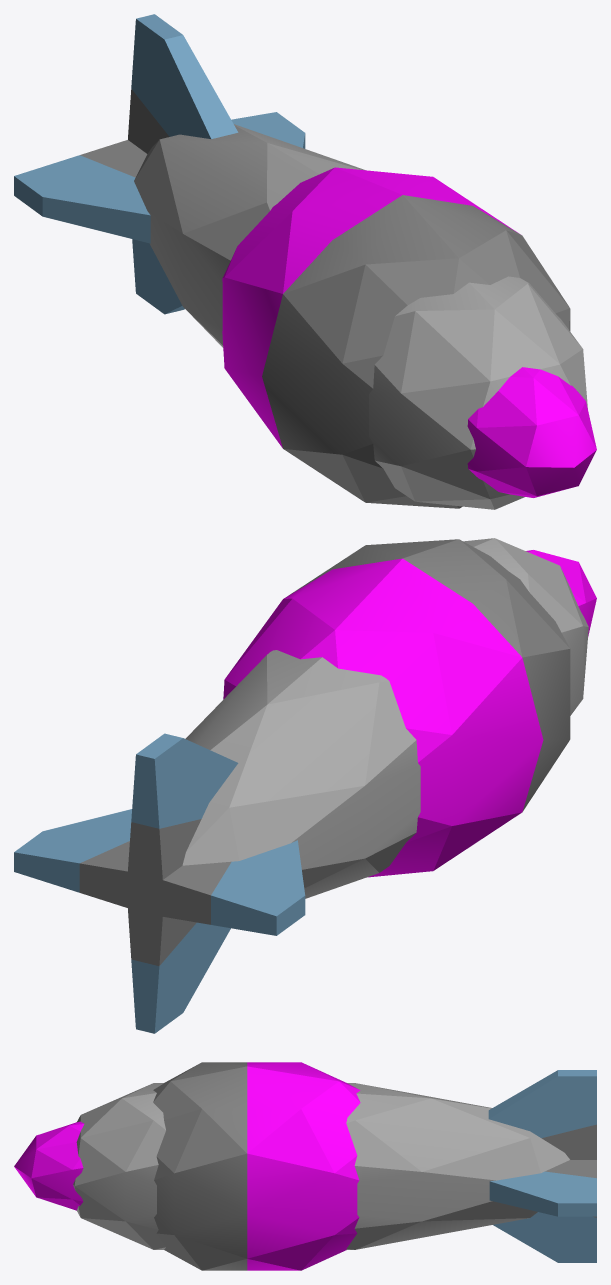
The model's file is Homing Missile.fbx.
The picture shows the model from 3 angles, top to bottom: view 1: azimuth 30°, elevation 25°; view 2: azimuth 150°, elevation 25°; view 3: azimuth 270°, elevation 25°; orthographic projection. The views are drawn at different scales.
Visible parts, largest first — view 1: projectile; view 2: projectile; view 3: projectile.
Part boxes in pixels (x1,y1,x2,y2): projectile: (14, 14, 596, 509); projectile: (14, 538, 596, 1033); projectile: (14, 1062, 596, 1270).
Bounding box in the file's own units: 30 × 30 × 79.2.
